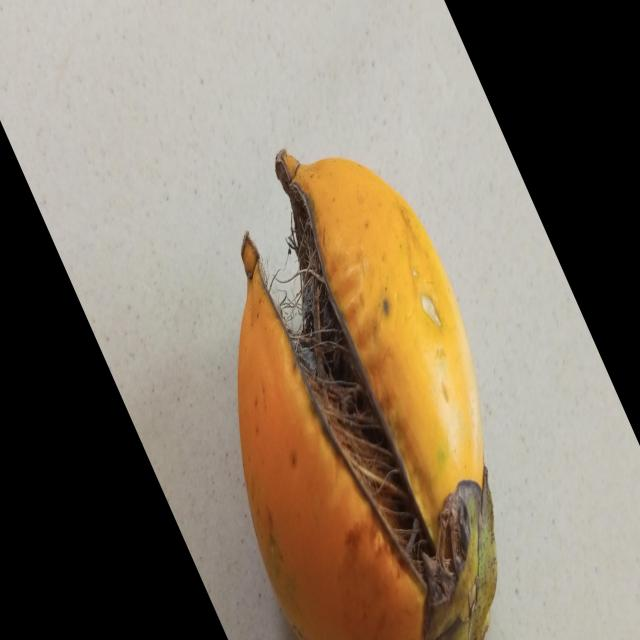damaged: (238, 150, 497, 640)
